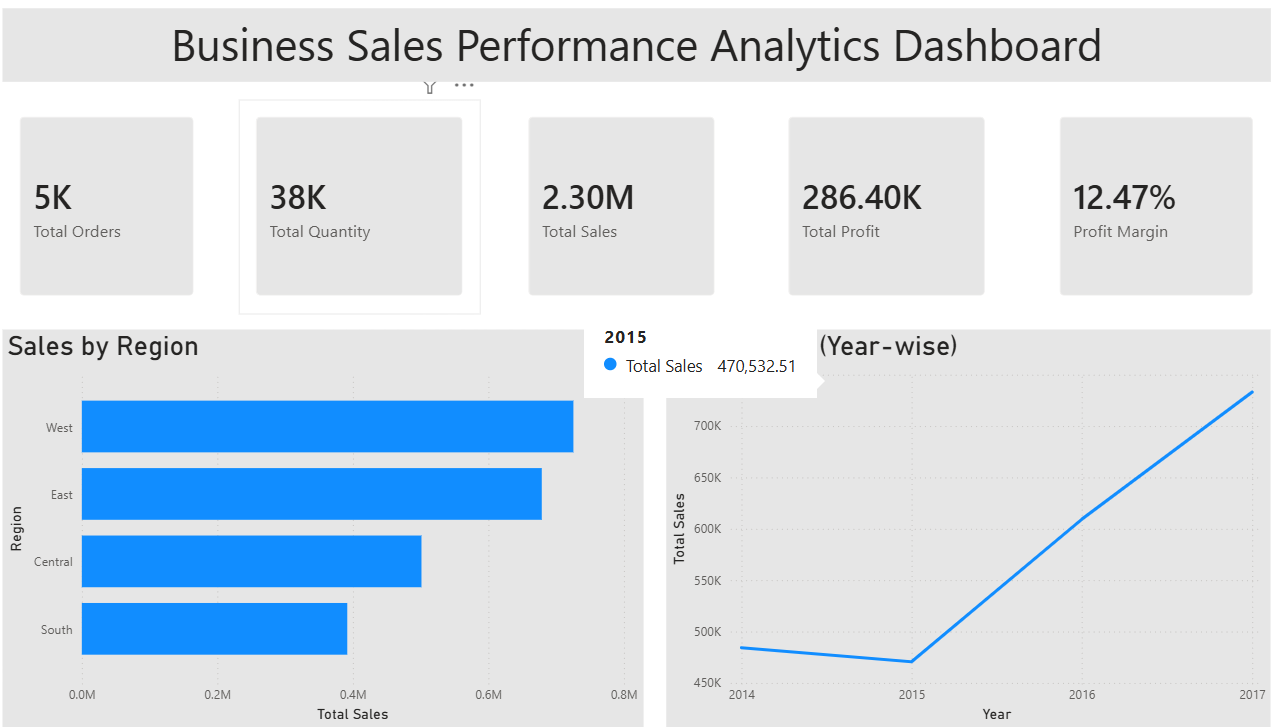

The dashboard page shown, as its layout file describes it:
{"tool":"powerbi","page":{"name":"Sales Overview","canvas":[1280,720],"ordinal":0},"visuals":[{"type":"cardVisual","fields":{"Data":["Sample - Superstore.Total Sales"]},"box":[510.5,105.7,216.8,209.9],"z":0},{"type":"cardVisual","fields":{"Data":["Sample - Superstore.Total Profit"]},"box":[764.3,105.7,226.4,209.9],"z":1000},{"type":"cardVisual","fields":{"Data":["Sample - Superstore.Total Orders"]},"box":[12.3,105.7,204.5,209.9],"z":2000},{"type":"cardVisual","fields":{"Data":["Sample - Superstore.Total Quantity"]},"box":[242.9,105.7,236,209.9],"z":3000},{"type":"cardVisual","fields":{"Data":["Sample - Superstore.Profit Margin"]},"box":[1029.2,105.7,223.7,209.9],"z":4000},{"type":"lineChart","title":"Sales Trend (Year-wise)","fields":{"Category":["Sample - Superstore.Order Date.Variation.Date Hierarchy.Year","Sample - Superstore.Order Date.Variation.Date Hierarchy.Quarter","Sample - Superstore.Order Date.Variation.Date Hierarchy.Month","Sample - Superstore.Order Date.Variation.Date Hierarchy.Day"],"Y":["Sample - Superstore.Total Sales"]},"box":[661.4,330.7,591.4,389.7],"z":5000},{"type":"barChart","title":"Sales by Region","fields":{"Category":["Sample - Superstore.Region"],"Y":["Sample - Superstore.Total Sales"]},"box":[12.3,330.7,627.1,389.7],"z":6000},{"type":"textbox","box":[12.2,15.9,1241.2,72.1],"z":7000}]}

Visuals, with their boxes in screenshot pixels (x1, y1, x2, y2), scaled from the page's 1280x720 canvas onto the 1276x727 screenshot:
cardVisual - Sample - Superstore.Total Sales: [509,107,725,319]
cardVisual - Sample - Superstore.Total Profit: [762,107,988,319]
cardVisual - Sample - Superstore.Total Orders: [12,107,216,319]
cardVisual - Sample - Superstore.Total Quantity: [242,107,477,319]
cardVisual - Sample - Superstore.Profit Margin: [1026,107,1249,319]
"Sales Trend (Year-wise)" lineChart: [659,334,1249,726]
"Sales by Region" barChart: [12,334,637,726]
textbox: [12,16,1249,89]
